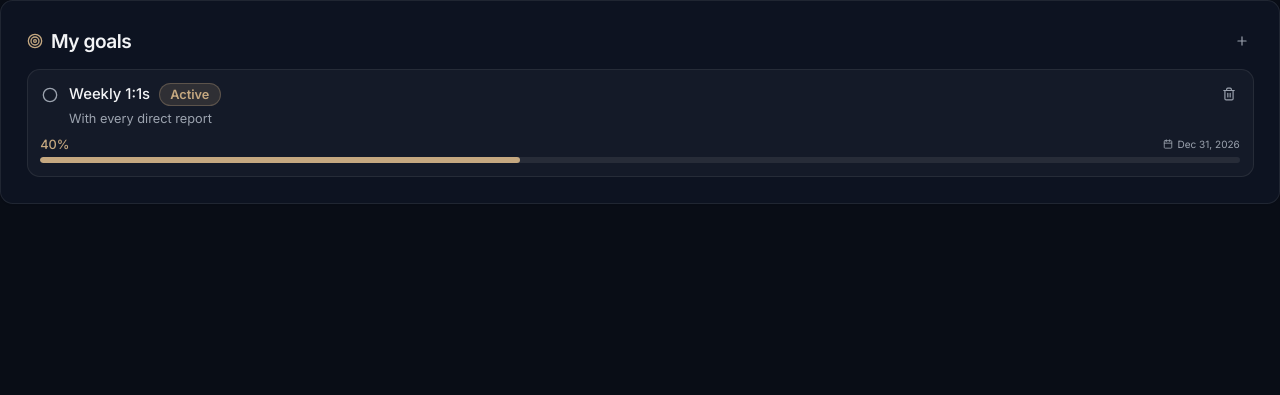
Test: MyGoals › opens the goal for editing when it is clicked, without completing it
Click the button "Weekly 1:1s Active With every direct report" at (110, 94), box x1=69 y1=83 x2=1209 y2=127
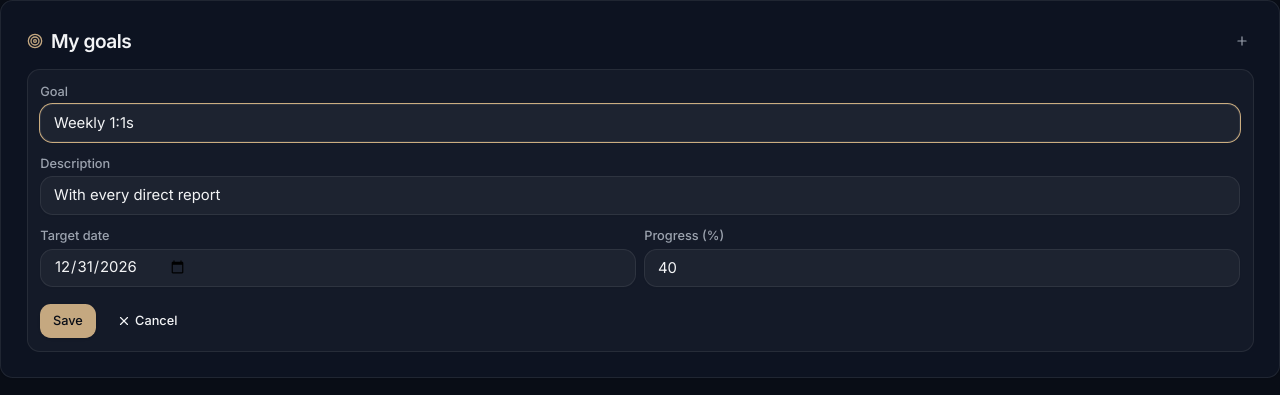
Result: the field labelled "Goal" holds "Weekly 1:1s" at x1=40 y1=104 x2=1240 y2=142
Result: the number field labelled "Progress (%)" holds "40" at x1=644 y1=248 x2=1240 y2=287
